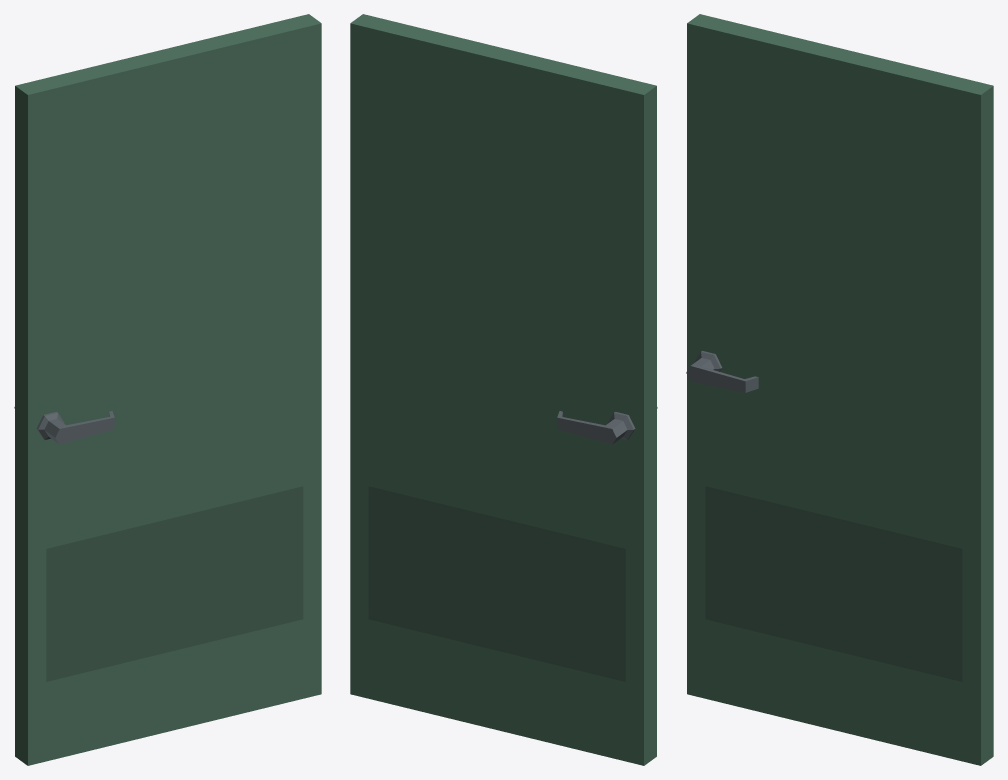
File: SM_Bld_RepairShop_Medium_Door_03.fbx
3 views of the same model, side by side, from view 1: azimuth 30°, elevation 25°; view 2: azimuth 150°, elevation 25°; view 3: azimuth 330°, elevation 25° (orthographic).
Parts seen in each view (by area): view 1: SM_Bld_RepairShop_Medium_Door_03; view 2: SM_Bld_RepairShop_Medium_Door_03; view 3: SM_Bld_RepairShop_Medium_Door_03.
Boxes of the visible parts, x1=… form: SM_Bld_RepairShop_Medium_Door_03: x1=14, y1=14, x2=321, y2=765; SM_Bld_RepairShop_Medium_Door_03: x1=350, y1=14, x2=657, y2=765; SM_Bld_RepairShop_Medium_Door_03: x1=686, y1=14, x2=993, y2=765.
Bounding box in the file's own units: 101 × 221 × 24.59.
